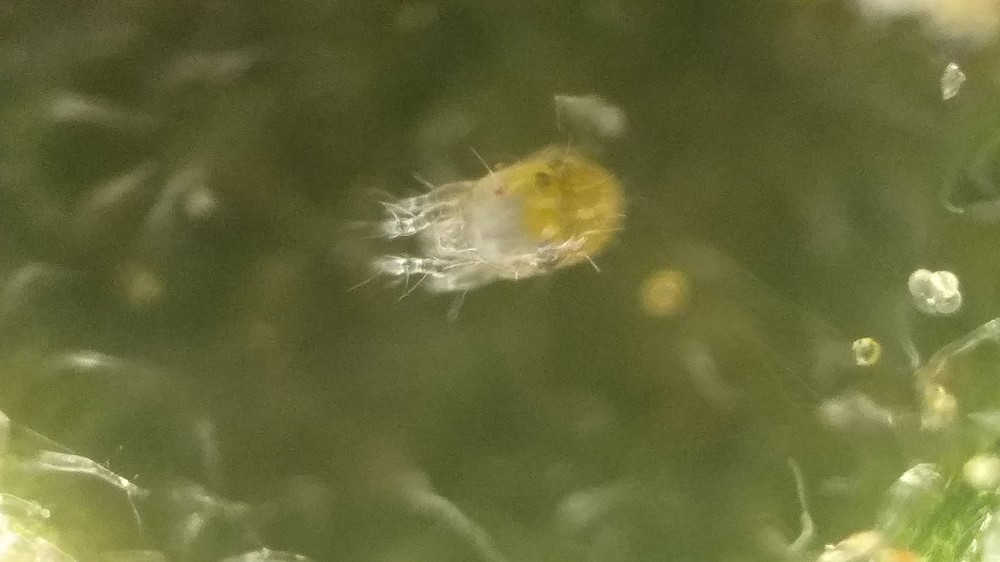Aracnido Rojo: (341, 119, 658, 334)
